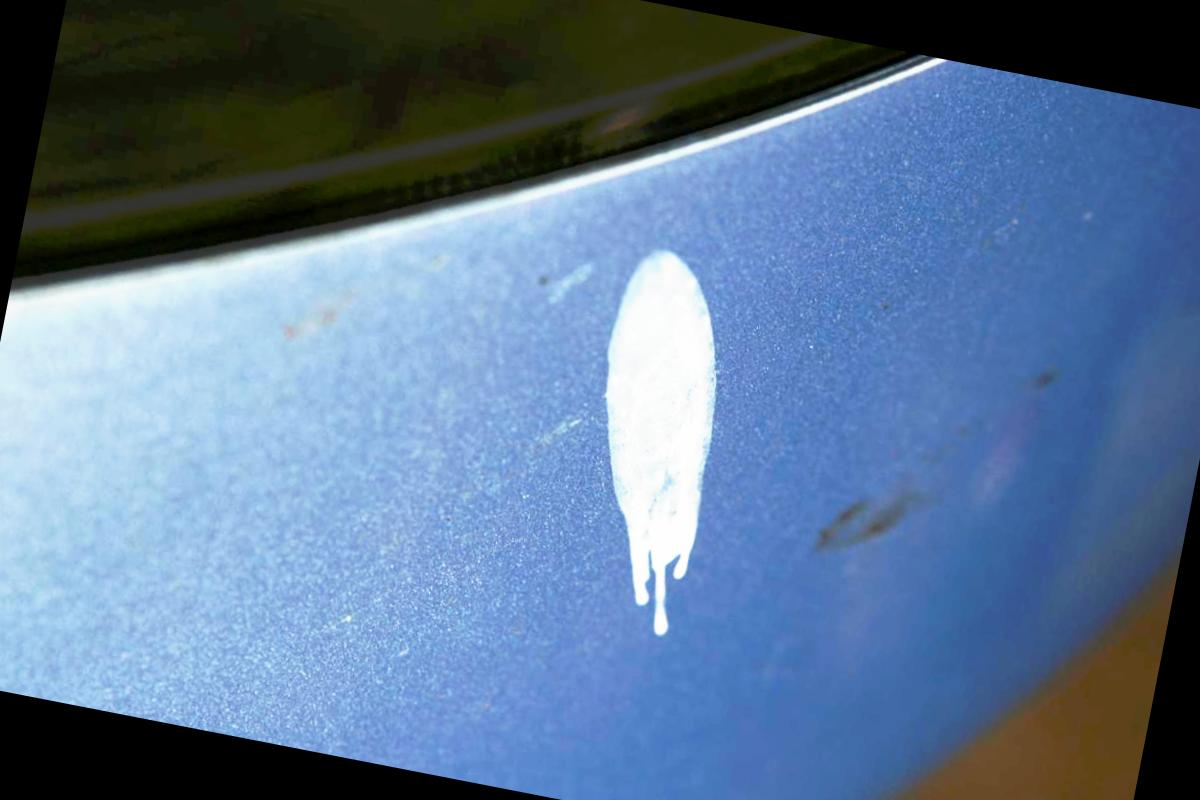Bird Poop: (605, 251, 716, 635)
